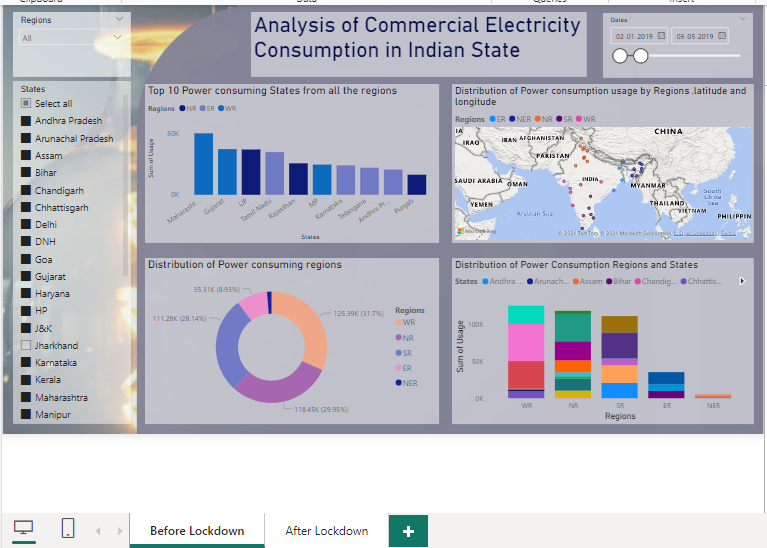

This screenshot's page, from the dashboard's own definition file:
{"tool":"powerbi","page":{"name":"Before Lockdown","canvas":[1280,720],"ordinal":0},"visuals":[{"type":"columnChart","title":"Top 10 Power consuming States from all the regions","fields":{"Category":["2_data.States"],"Y":["Sum(2_data.Usage)"],"Series":["2_data.Regions"]},"box":[240.2,132.7,493.9,267.1],"z":0},{"type":"donutChart","title":"Distribution of Power consuming regions","fields":{"Y":["Sum(2_data.Usage)"],"Category":["2_data.Regions"]},"box":[240.2,425,493.9,278.8],"z":1000},{"type":"columnChart","title":"Distribution of Power Consumption Regions and States","fields":{"Category":["2_data.Regions"],"Y":["Sum(2_data.Usage)"],"Series":["2_data.States"]},"box":[755.9,425,507.3,278.8],"z":2000},{"type":"slicer","fields":{"Values":["2_data.States"]},"box":[18.5,127.7,198.2,576.2],"z":3000},{"type":"slicer","fields":{"Values":["2_data.Regions"]},"box":[18.5,11.8,198.2,109.2],"z":4000},{"type":"slicer","fields":{"Values":["2_data.Dates"]},"box":[1009.6,13.4,252,109.2],"z":5000},{"type":"textbox","title":"Analysis of Commercial Electricity Consumption in Indian State","box":[418.3,11.8,564.4,109.2],"z":6000},{"type":"filledMap","box":[755.9,132.7,505.6,267.1],"z":7000}]}

Visuals, with their boxes on the page's 1280x720 design canvas (x1, y1, x2, y2). These are canvas units, not pixel positions in the 767x548 screenshot, which may show the page scaled, cropped or inside an application window:
"Top 10 Power consuming States from all the regions" columnChart: bbox(240, 133, 734, 400)
"Distribution of Power consuming regions" donutChart: bbox(240, 425, 734, 704)
"Distribution of Power Consumption Regions and States" columnChart: bbox(756, 425, 1263, 704)
slicer - 2_data.States: bbox(18, 128, 217, 704)
slicer - 2_data.Regions: bbox(18, 12, 217, 121)
slicer - 2_data.Dates: bbox(1010, 13, 1262, 123)
"Analysis of Commercial Electricity Consumption in Indian State" textbox: bbox(418, 12, 983, 121)
filledMap: bbox(756, 133, 1262, 400)
